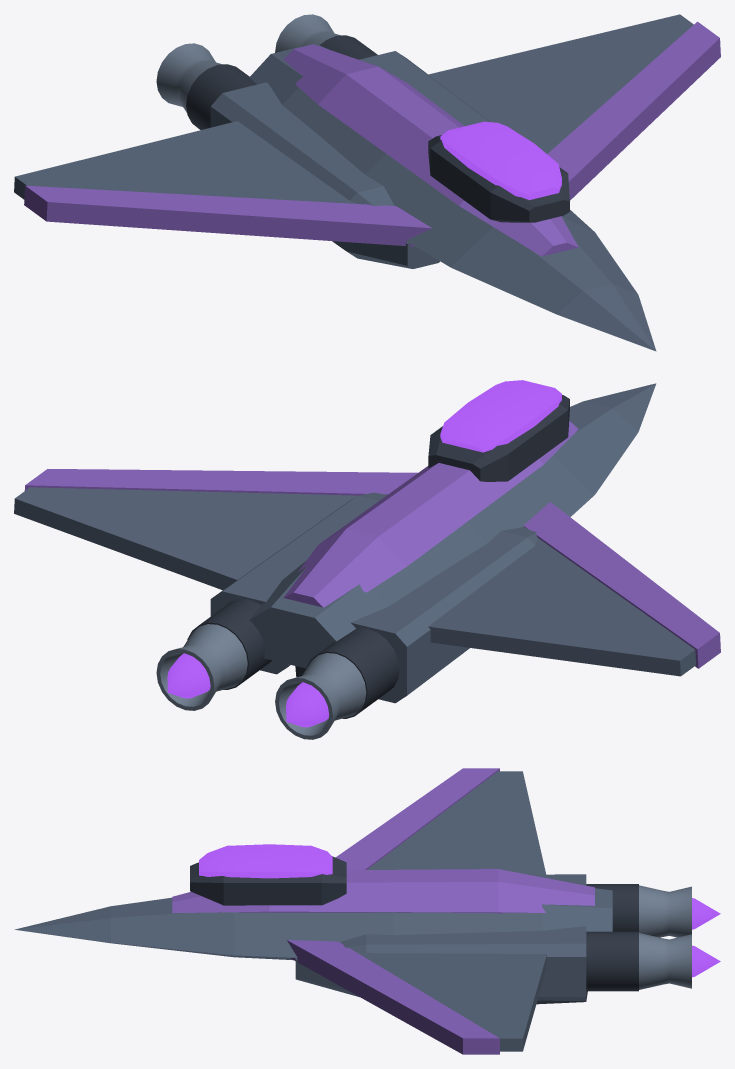
Rendered from drone.glb.
3 views of the same model, one above another, from view 1: azimuth 30°, elevation 25°; view 2: azimuth 150°, elevation 25°; view 3: azimuth 270°, elevation 25° (orthographic). The views are drawn at different scales.
Visible parts, largest first — view 1: drone; view 2: drone; view 3: drone.
Boxes of the visible parts, bbox=[...] form: drone: bbox=[14, 14, 720, 351]; drone: bbox=[14, 380, 720, 739]; drone: bbox=[15, 768, 720, 1054].
Size of the model in its own units: 3.64 by 0.9469 by 4.01.
